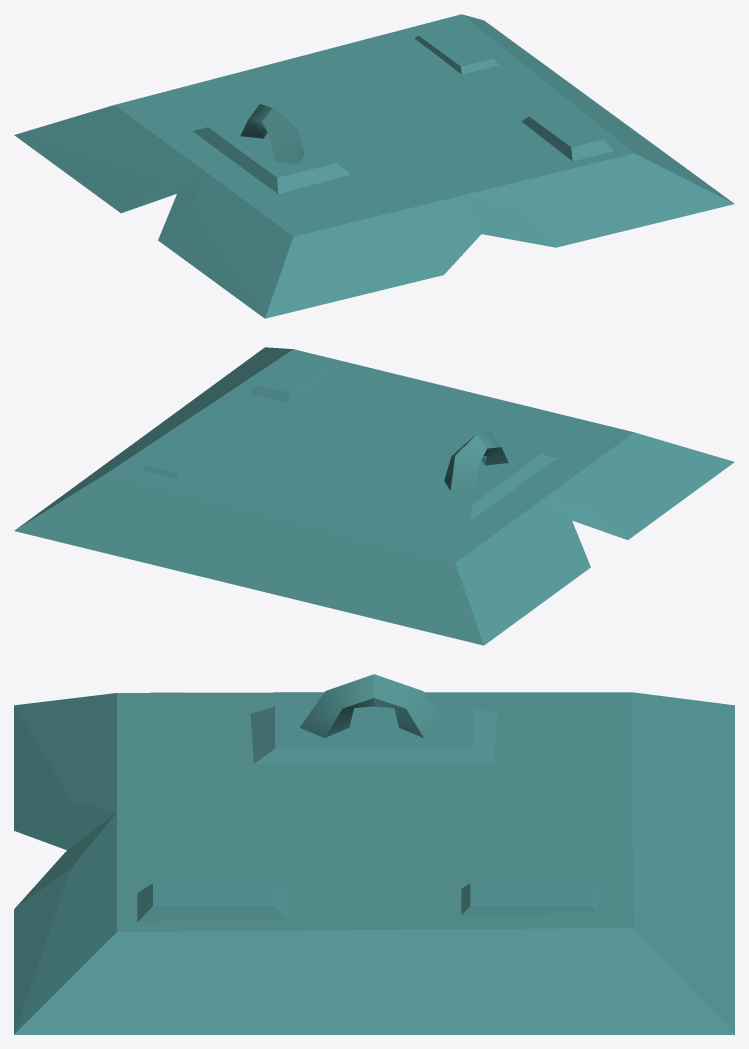
Rendered from Luke.fbx.
The picture shows the model from 3 angles, top to bottom: view 1: azimuth 30°, elevation 25°; view 2: azimuth 150°, elevation 25°; view 3: azimuth 270°, elevation 25°; orthographic projection. The views are drawn at different scales.
Parts seen in each view (by area): view 1: Luke; view 2: Luke; view 3: Luke.
Boxes of the visible parts, <box> form: Luke: <box>14,14,734,318</box>; Luke: <box>14,347,734,645</box>; Luke: <box>14,674,734,1034</box>.
Bounding box in the file's own units: 70.81 × 12.48 × 65.49.
